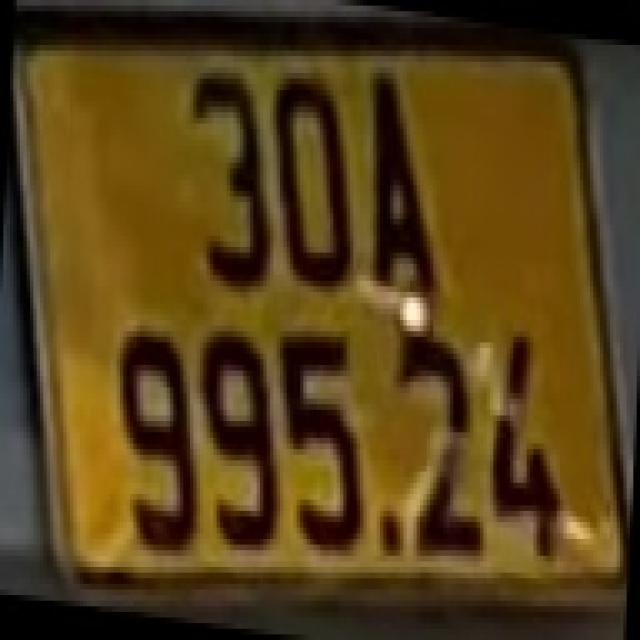0: (273, 67, 357, 292)
2: (393, 314, 487, 562)
3: (184, 62, 274, 292)
4: (486, 314, 566, 567)
5: (280, 320, 367, 556)
9: (113, 320, 197, 556), (200, 320, 280, 550)
A: (363, 62, 450, 309)
